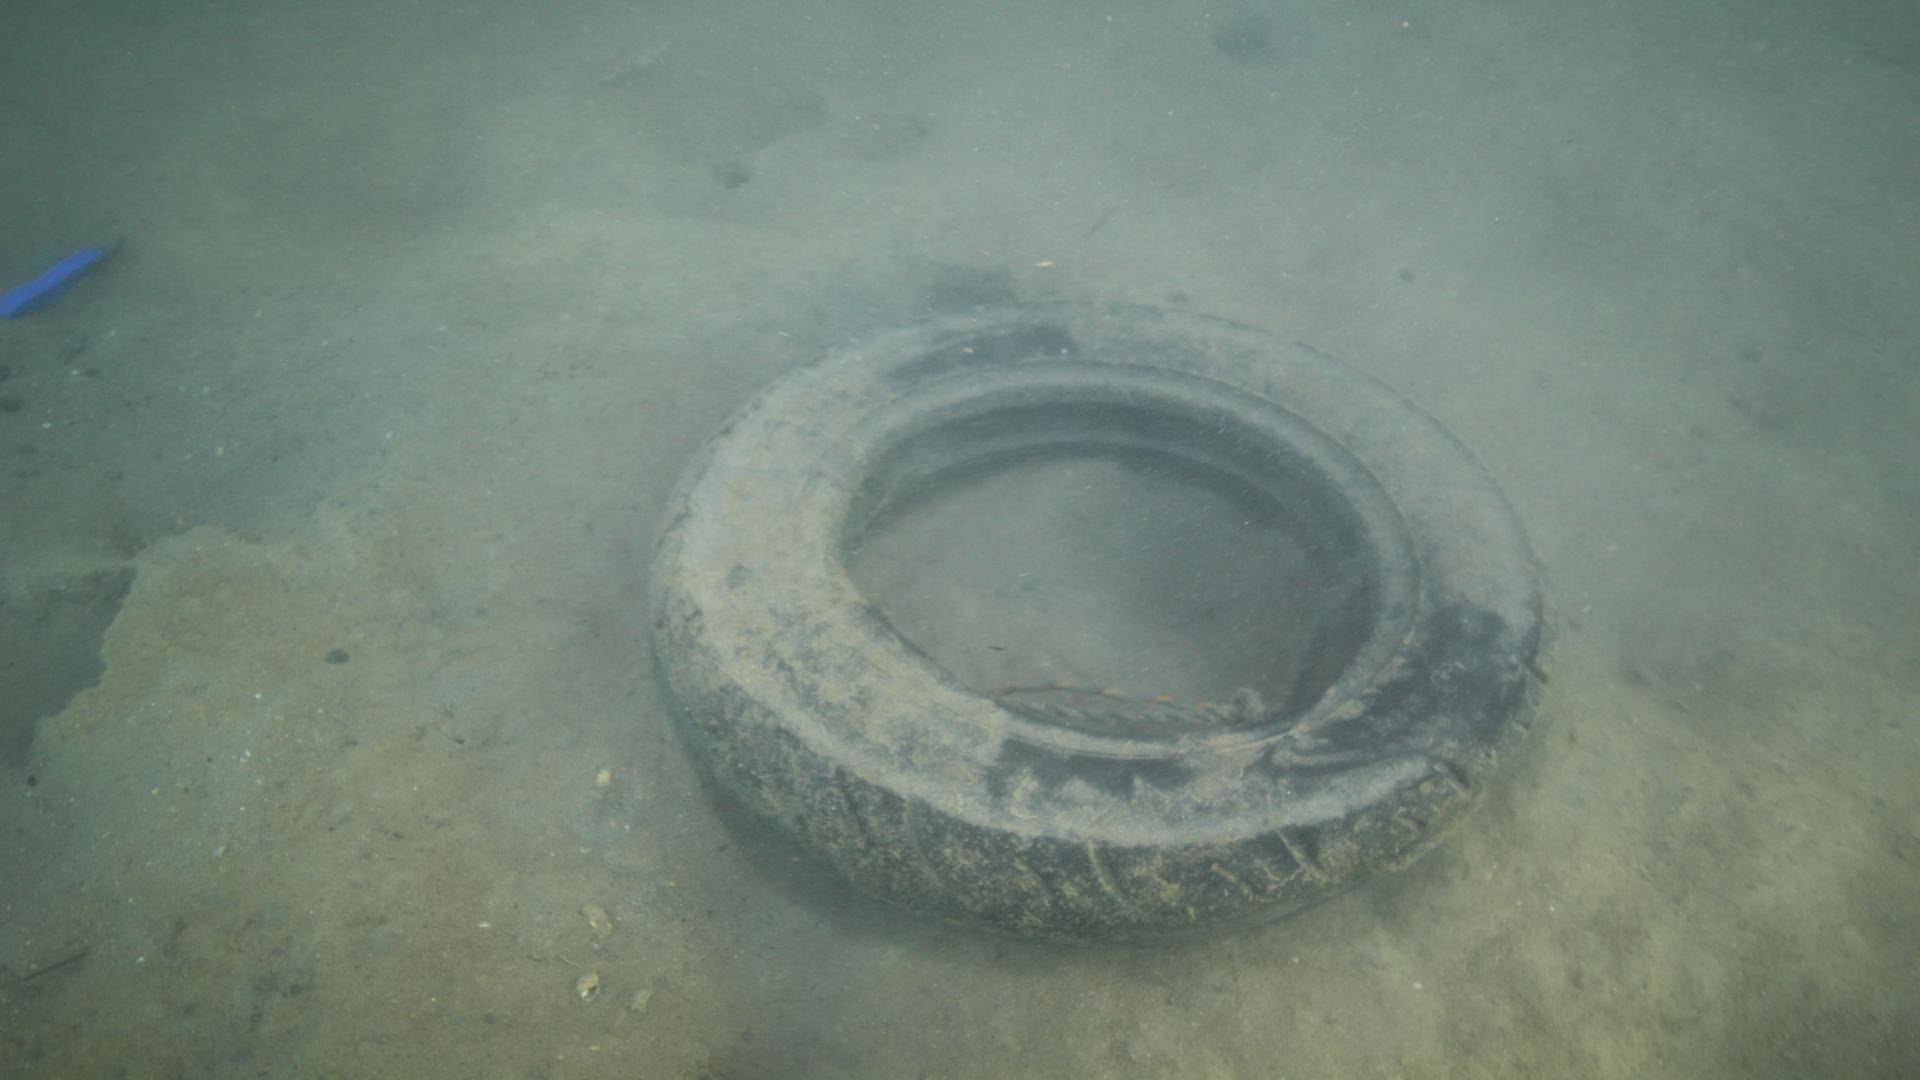rope: (981, 688, 1265, 732)
tire: (645, 303, 1563, 938)
